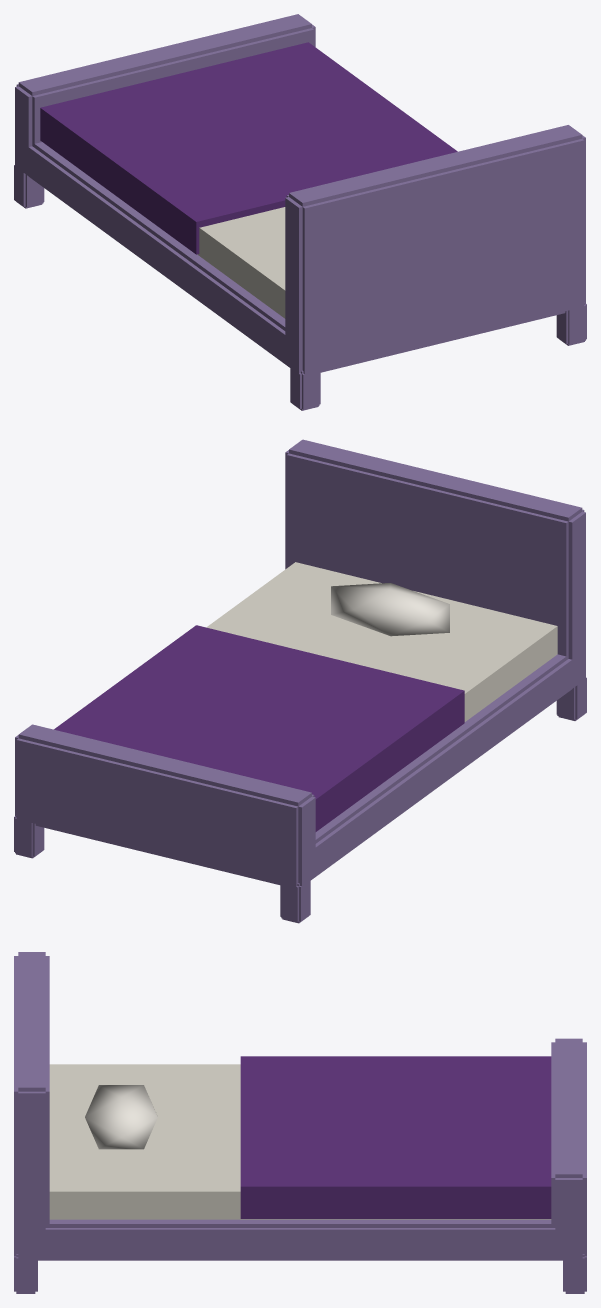
The model's file is ebonwood_bed_v0.glb.
The picture shows the model from 3 angles, top to bottom: view 1: azimuth 30°, elevation 25°; view 2: azimuth 150°, elevation 25°; view 3: azimuth 270°, elevation 25°; orthographic projection.
Parts seen in each view (by area): view 1: ebonwood_bed_v0; view 2: ebonwood_bed_v0; view 3: ebonwood_bed_v0.
Part boxes in pixels (x1,y1,x2,y2): ebonwood_bed_v0: (14, 14, 586, 410); ebonwood_bed_v0: (14, 439, 586, 923); ebonwood_bed_v0: (14, 952, 586, 1293).
Size of the model in its own units: 1.38 by 0.95 by 2.4.
